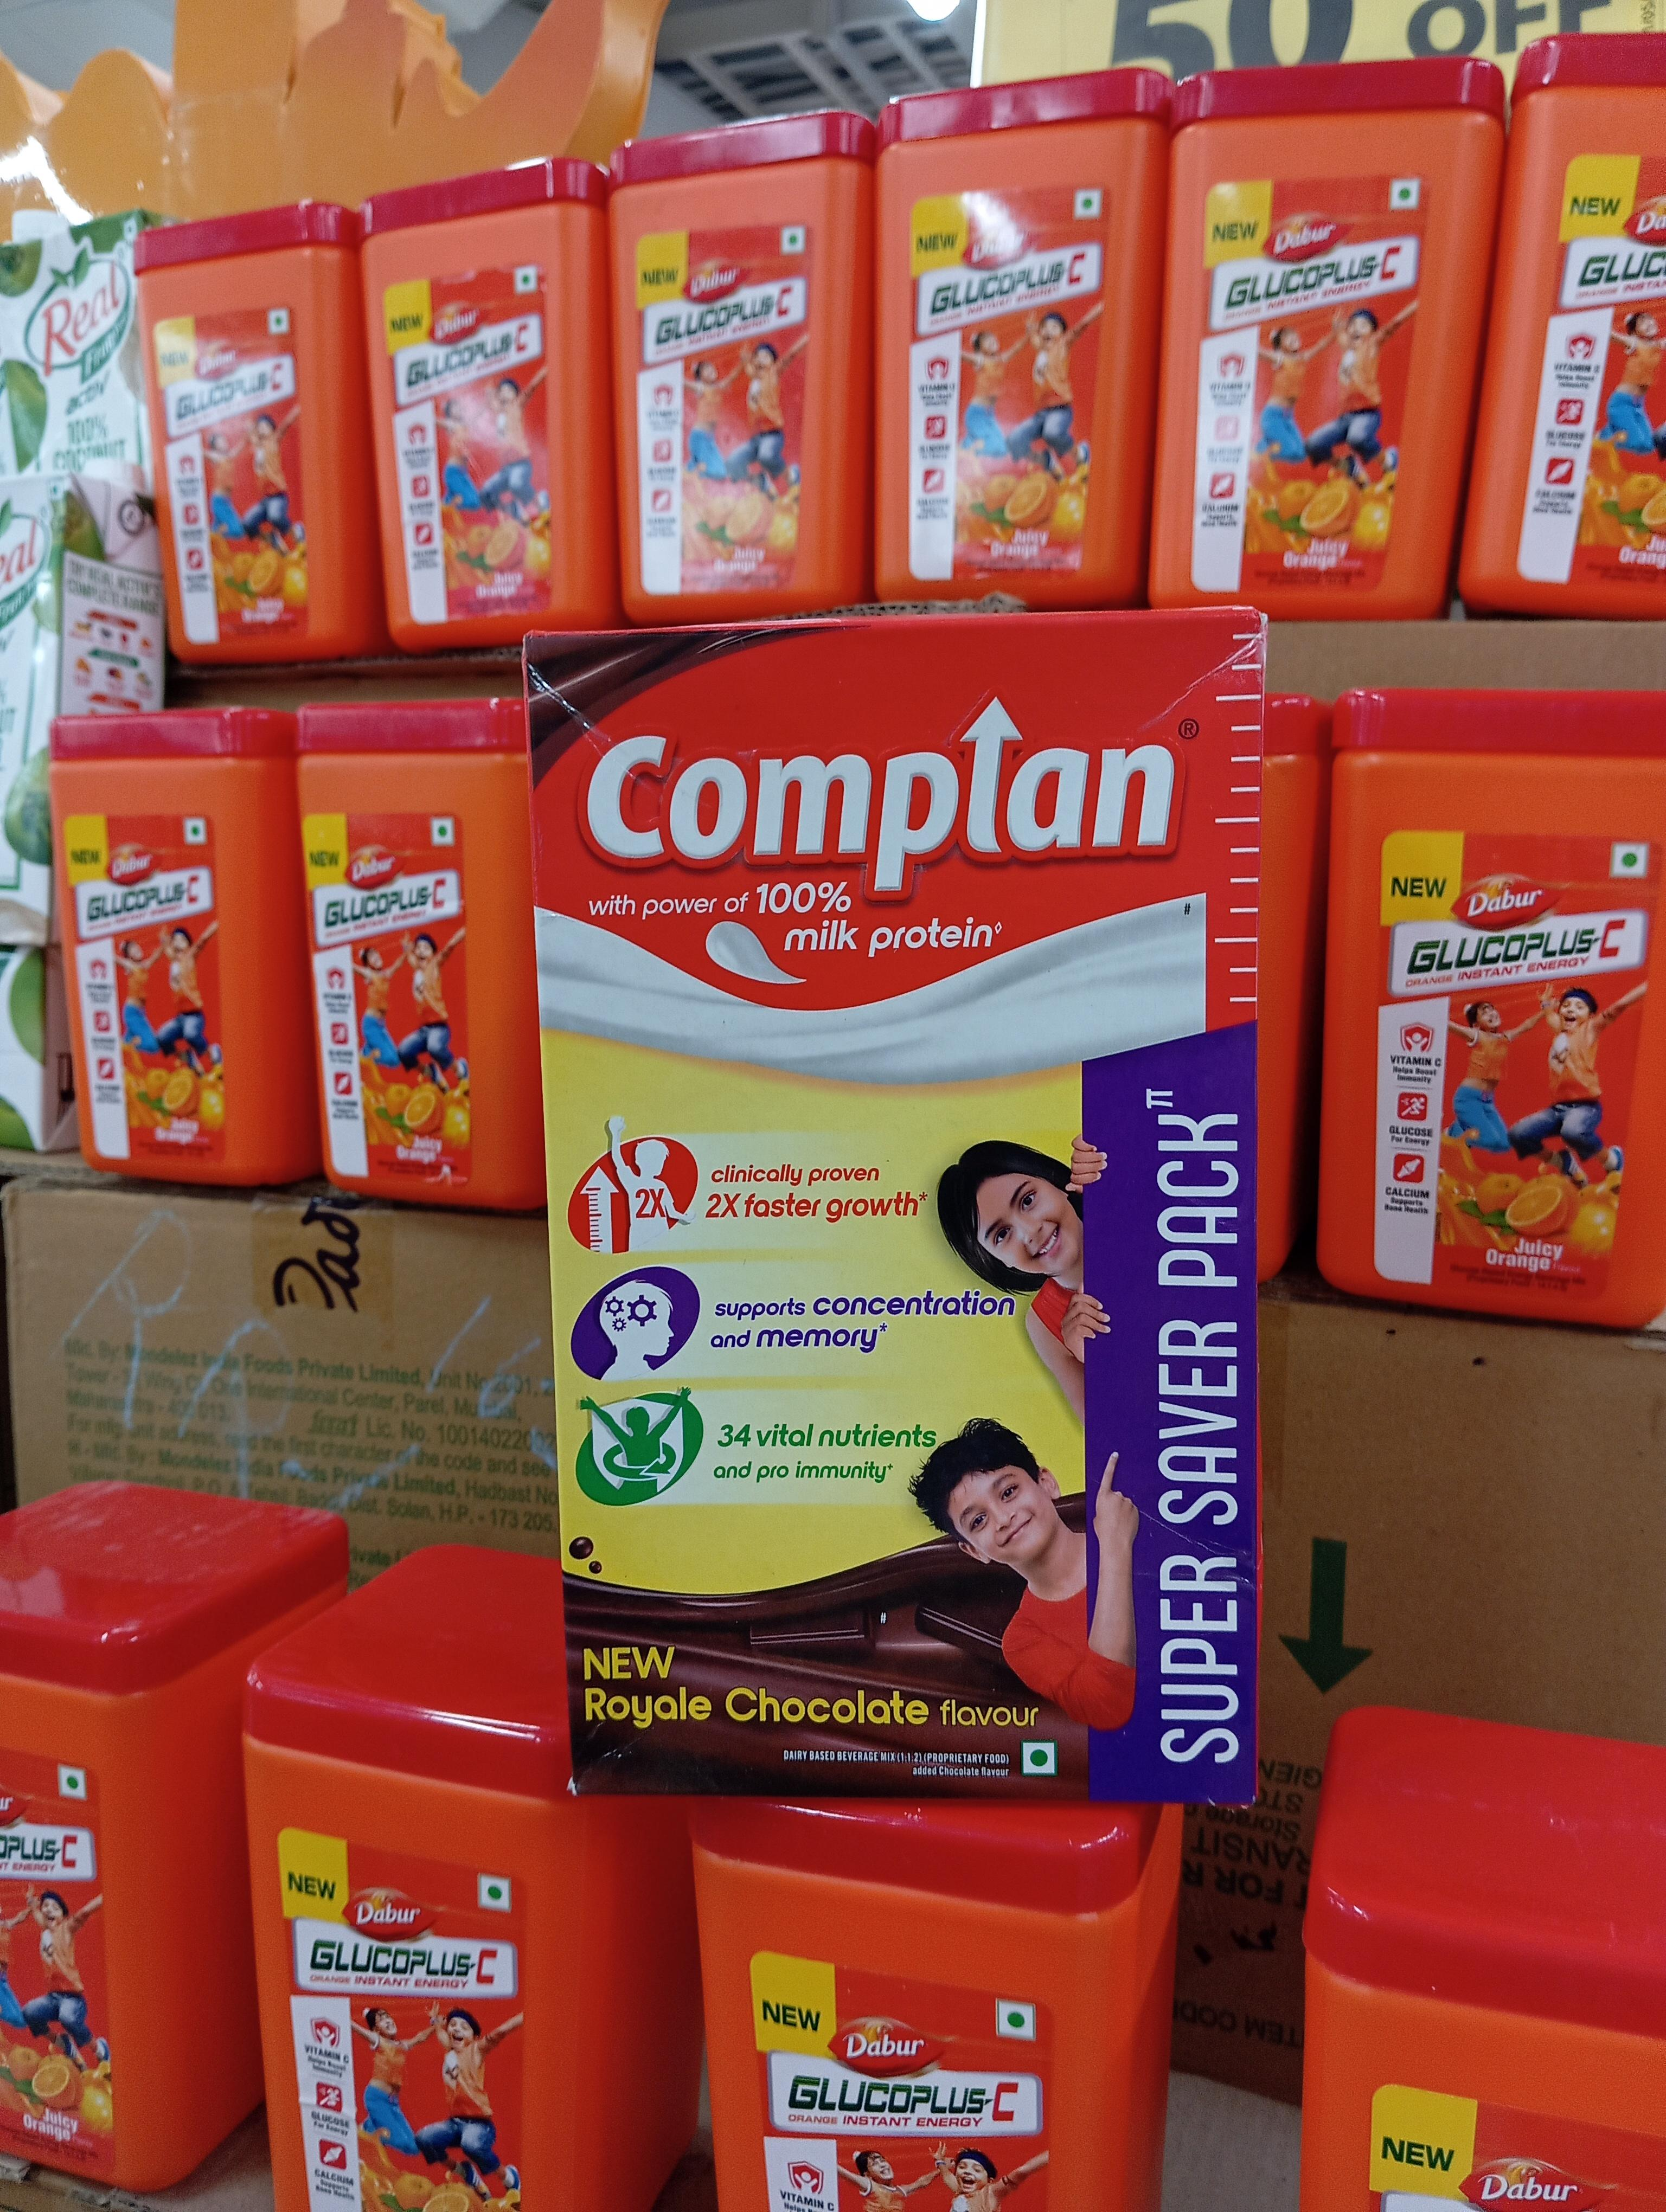COMPLAN_CHOCOLATE_1_KG_PACK: (527, 612, 1274, 1796)
